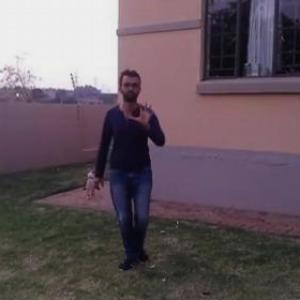follow_hand: (128, 97, 158, 128)
